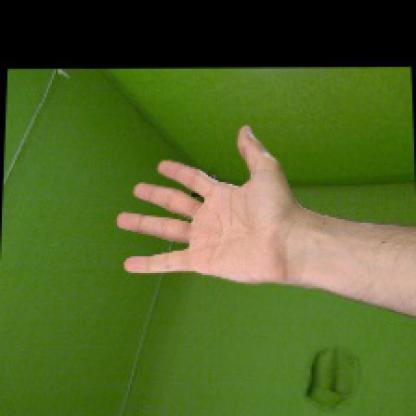Hand: (117, 125, 294, 284)
